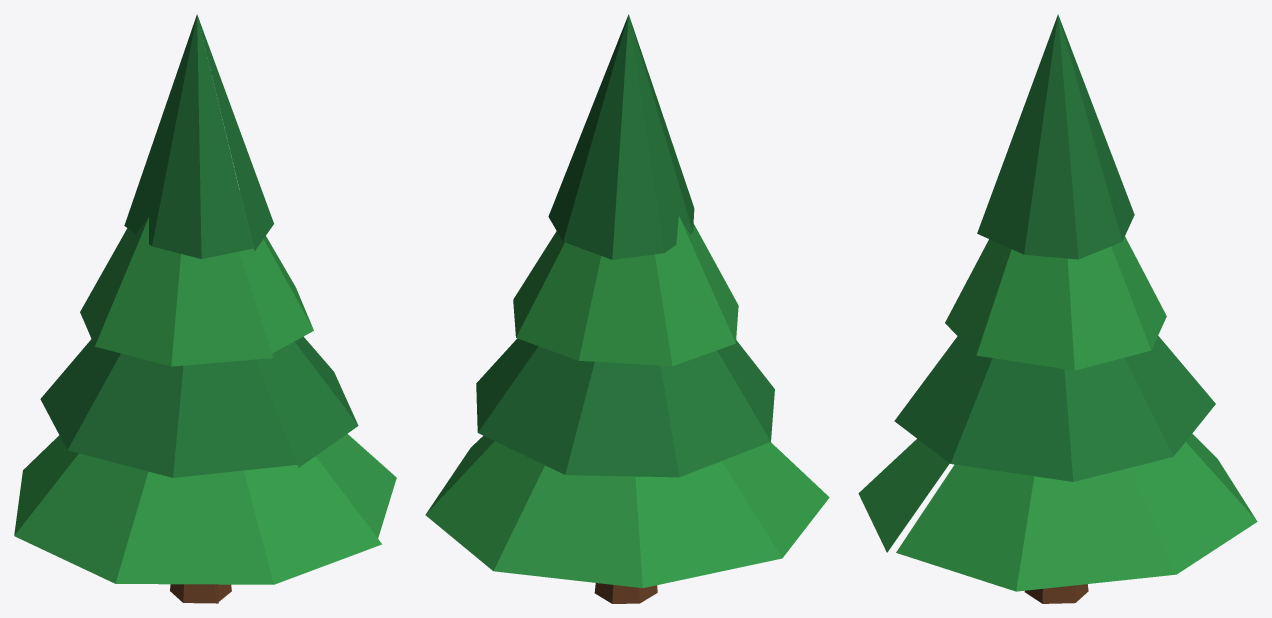
Rendered from pino_v1.glb.
3 renders of one model, left to right at view 1: azimuth 30°, elevation 25°; view 2: azimuth 150°, elevation 25°; view 3: azimuth 270°, elevation 25°, orthographic.
Parts seen in each view (by area): view 1: copa_1, copa_2, copa_3, copa_4, tronco; view 2: copa_1, copa_2, copa_3, copa_4, tronco; view 3: copa_1, copa_2, copa_3, copa_4, tronco.
Part boxes in pixels (x1,y1,x2,y2): copa_1: (14,434,396,584); copa_2: (40,336,358,477); copa_3: (80,191,313,366); copa_4: (124,14,273,258); tronco: (170,584,231,603); copa_1: (425,435,829,588); copa_2: (476,338,774,477); copa_3: (513,216,738,366); copa_4: (548,14,694,259); tronco: (594,583,657,603); copa_1: (858,433,1257,591); copa_2: (894,336,1215,481); copa_3: (945,236,1166,370); copa_4: (977,14,1134,259); tronco: (1024,584,1088,603).
Size of the model in its own units: 4.2 by 6.7 by 4.2.
